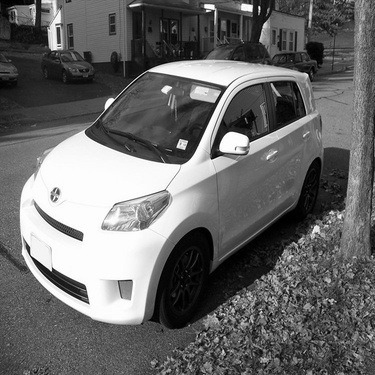car: (13, 58, 331, 332), (41, 46, 97, 84), (205, 37, 272, 68), (268, 49, 320, 84), (1, 51, 19, 84)
